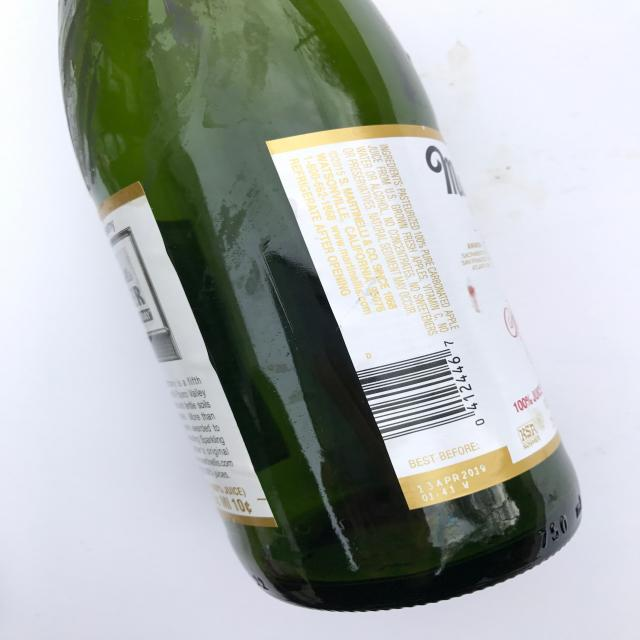Glass: (34, 0, 593, 613)
